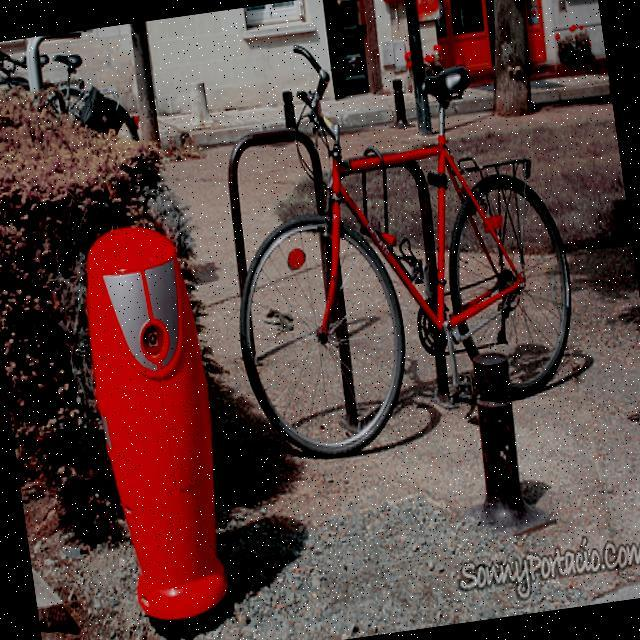fire_hydrant: (71, 218, 241, 640)
